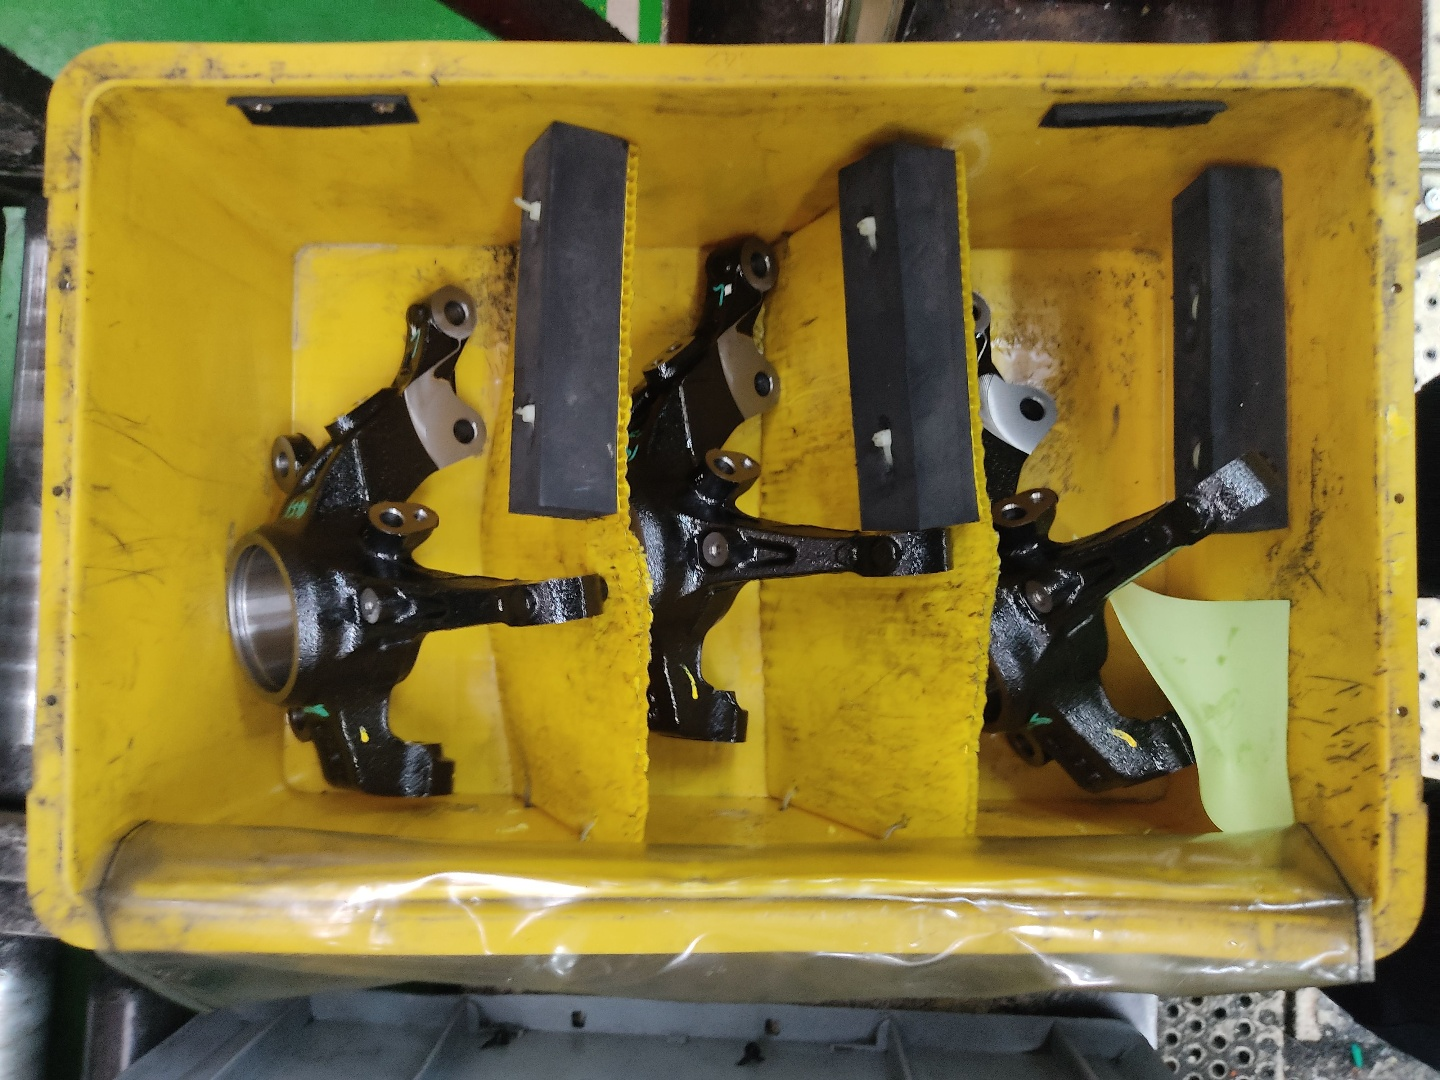abs-lh: (214, 282, 615, 805), (621, 228, 958, 757), (956, 275, 1279, 796)
